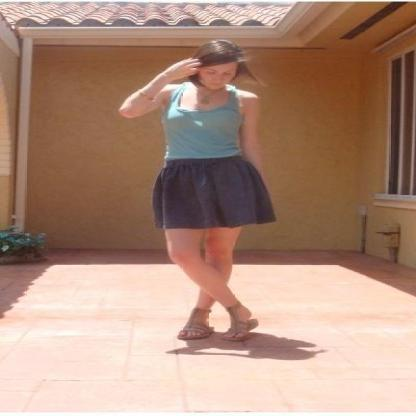shirt: (162, 92, 242, 158)
shoe: (182, 296, 257, 345)
skirt: (153, 155, 274, 228)
